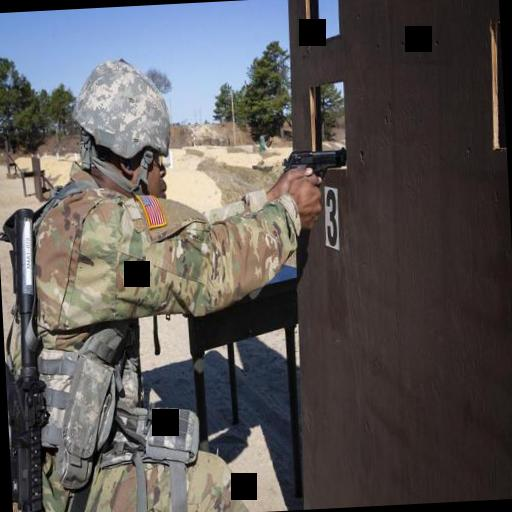Handgun: (280, 144, 346, 194)
